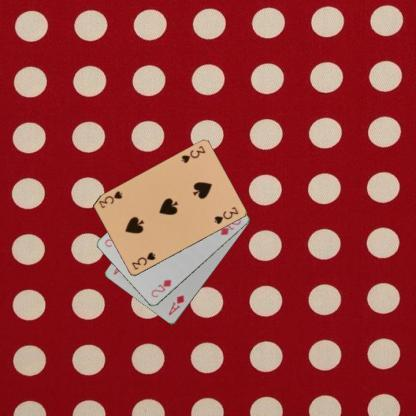2d: (148, 276, 172, 300)
3s: (128, 250, 156, 272), (178, 143, 206, 165)
Ad: (166, 292, 186, 317)
